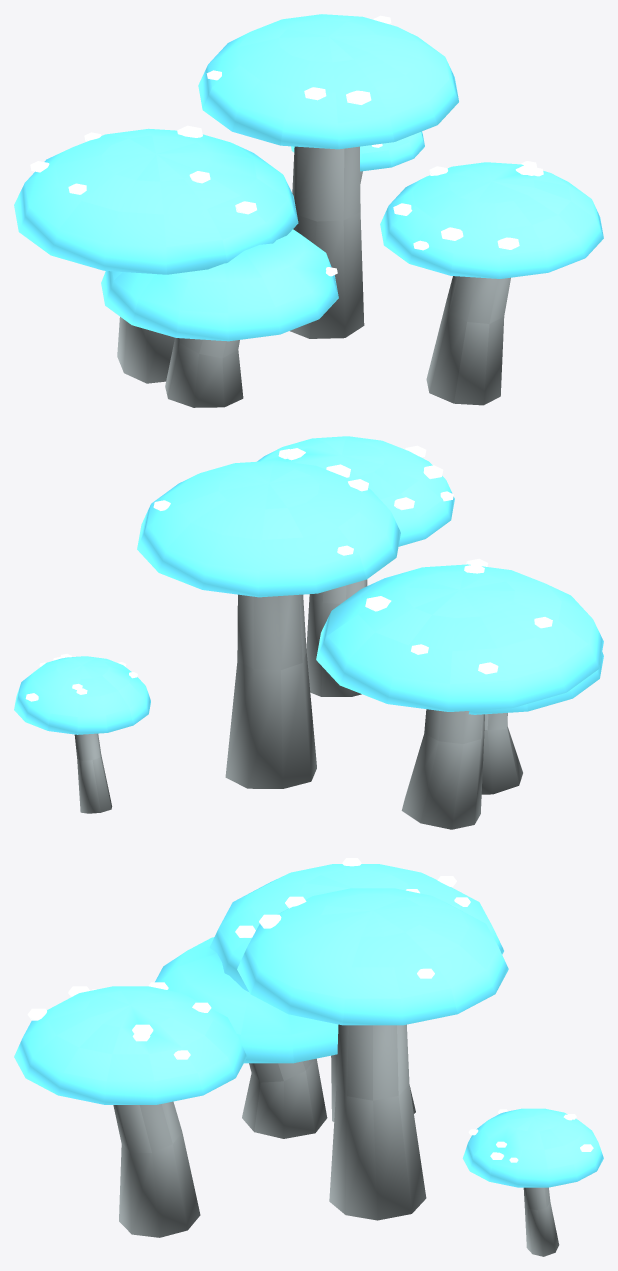
The model's file is obj_deco_hongos.glb.
3 renders of one model, top to bottom at view 1: azimuth 30°, elevation 25°; view 2: azimuth 150°, elevation 25°; view 3: azimuth 270°, elevation 25°, orthographic. The views are drawn at different scales.
Parts seen in each view (by area): view 1: propforge-libre-deco_hongos; view 2: propforge-libre-deco_hongos; view 3: propforge-libre-deco_hongos.
Boxes of the visible parts, left/top/right/bottom form: propforge-libre-deco_hongos: left=14, top=14, right=603, bottom=407; propforge-libre-deco_hongos: left=14, top=436, right=603, bottom=829; propforge-libre-deco_hongos: left=14, top=858, right=603, bottom=1256.
Size of the model in its own units: 0.6322 by 0.3745 by 0.6722.
